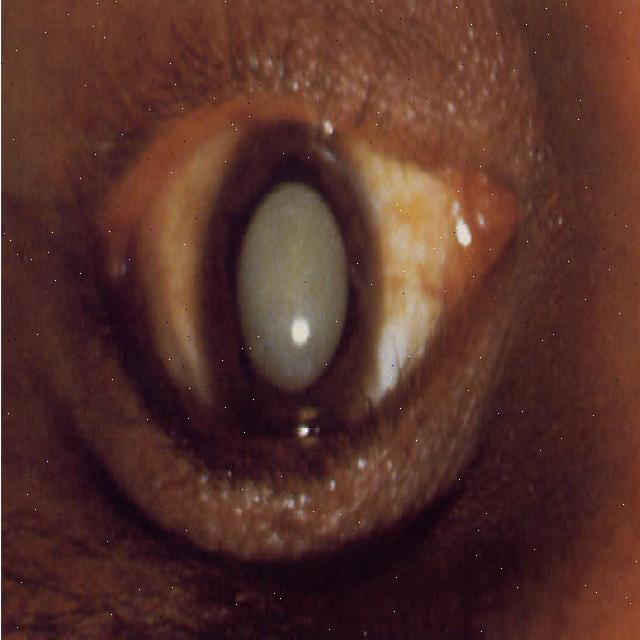Cataract: (199, 118, 380, 460)
